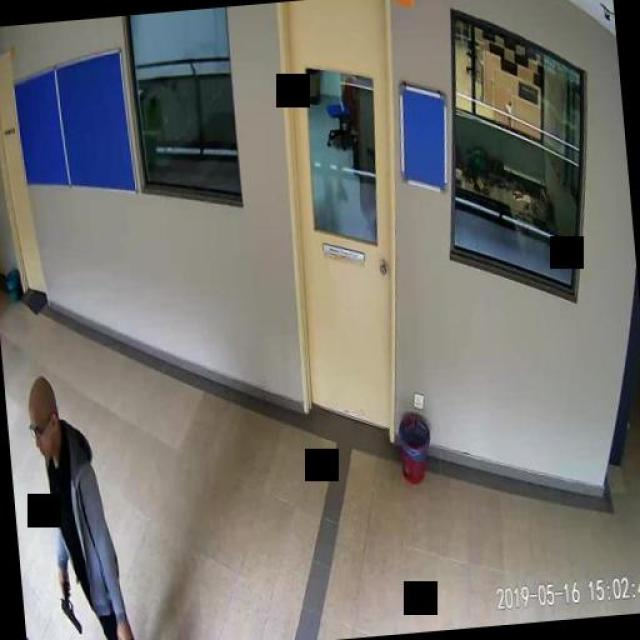gun: (56, 579, 80, 631)
